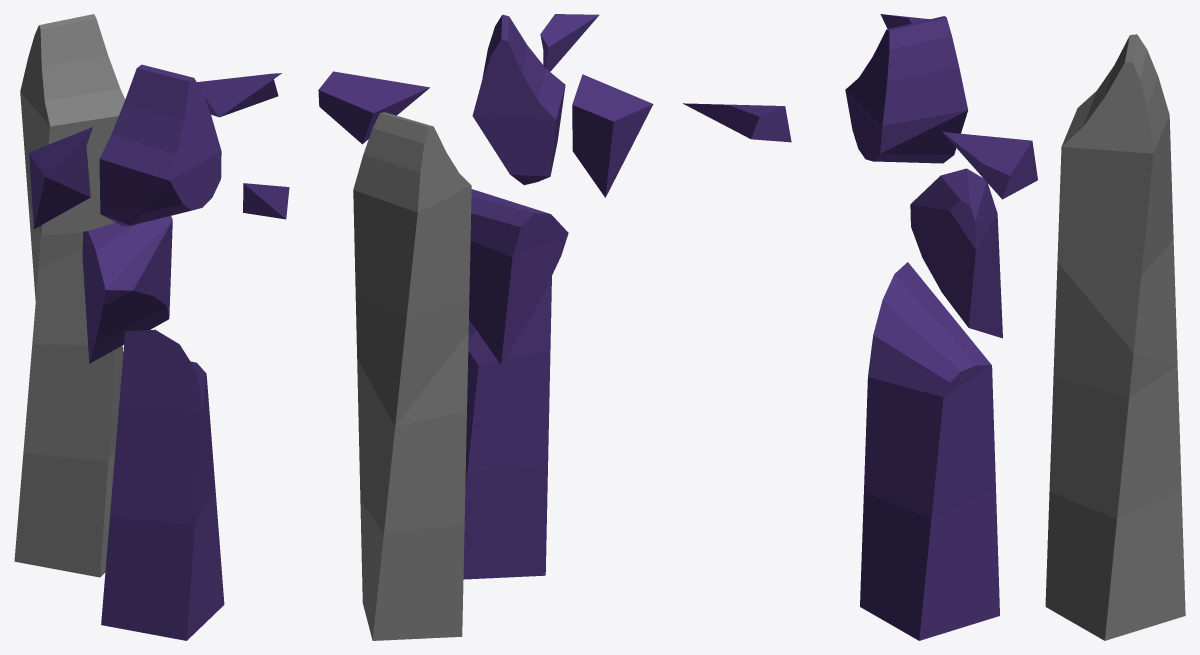
Rendered from EvenMoreRocks.fbx.
3 views of the same model, side by side, from view 1: azimuth 30°, elevation 25°; view 2: azimuth 150°, elevation 25°; view 3: azimuth 270°, elevation 25° (orthographic). The views are drawn at different scales.
Parts seen in each view (by area): view 1: Cube.014, Cube.013; view 2: Cube.013, Cube.014; view 3: Cube.014, Cube.013.
Part boxes in pixels (<box>): Cube.014: <box>29,64,289,640</box>; Cube.013: <box>14,14,125,577</box>; Cube.013: <box>353,112,471,640</box>; Cube.014: <box>318,14,653,579</box>; Cube.014: <box>683,14,1037,640</box>; Cube.013: <box>1045,34,1185,640</box>.
Bounding box in the file's own units: 271 × 489 × 380.
